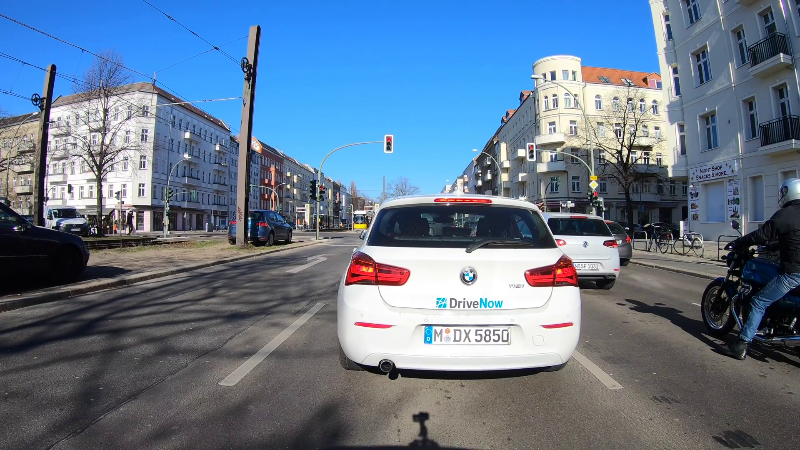Plate: (420, 321, 511, 345), (573, 258, 599, 270)
